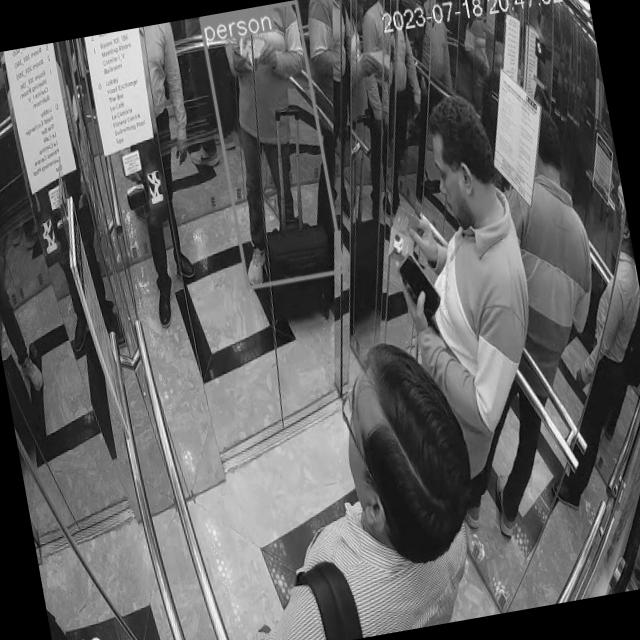person: (216, 321, 511, 640), (348, 75, 560, 436), (202, 9, 346, 292), (506, 107, 610, 370)
